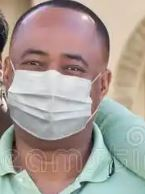with_facemask: (8, 68, 96, 143)
